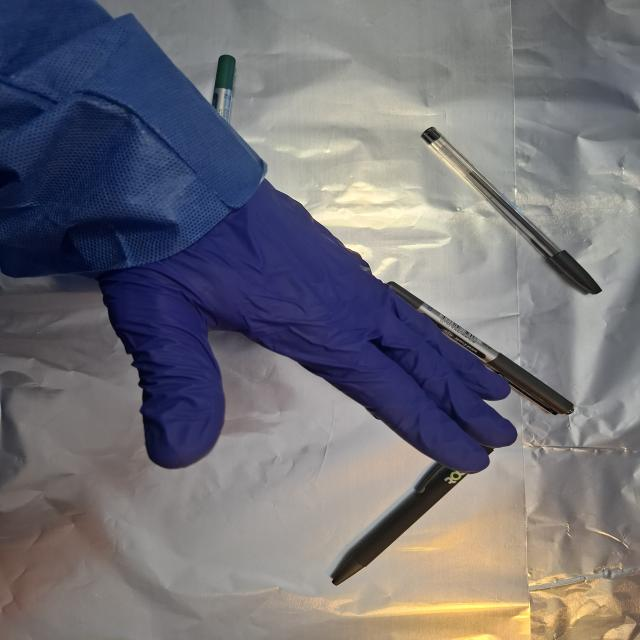glove_on: (94, 176, 522, 477)
